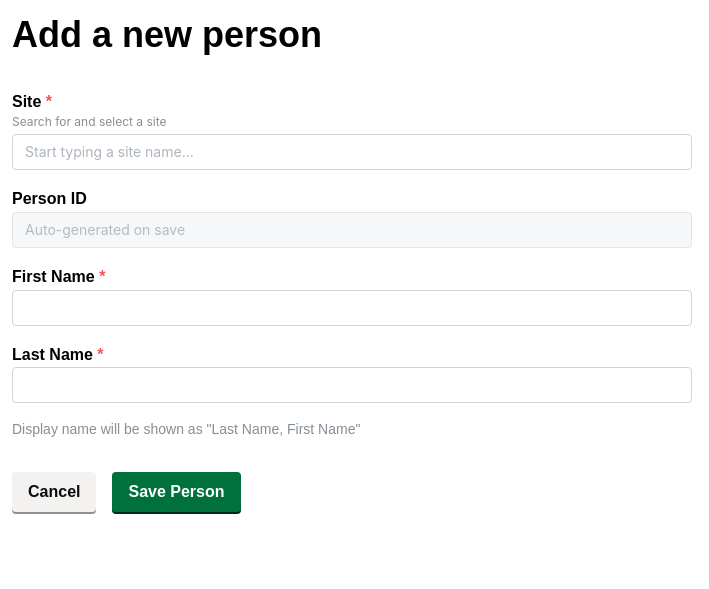
AddPersonPage › shows validation errors when submitting with empty fields
Click the button with test id "save-button".
click(177, 492)  # box [112,472,241,512]
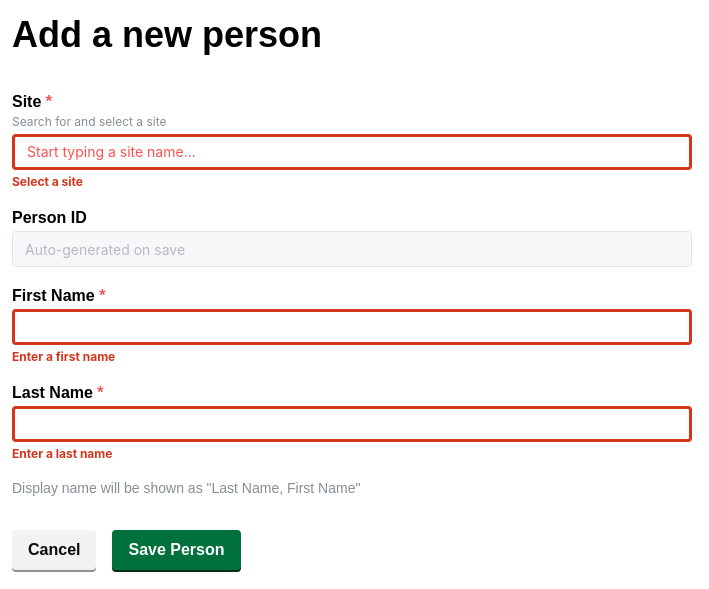
Expected: the text "Enter a first name" is shown, [12,349,115,364]
Expected: the text "Enter a last name" is shown, [12,446,112,461]
Expected: the text "Select a site" is shown, [12,174,83,189]
